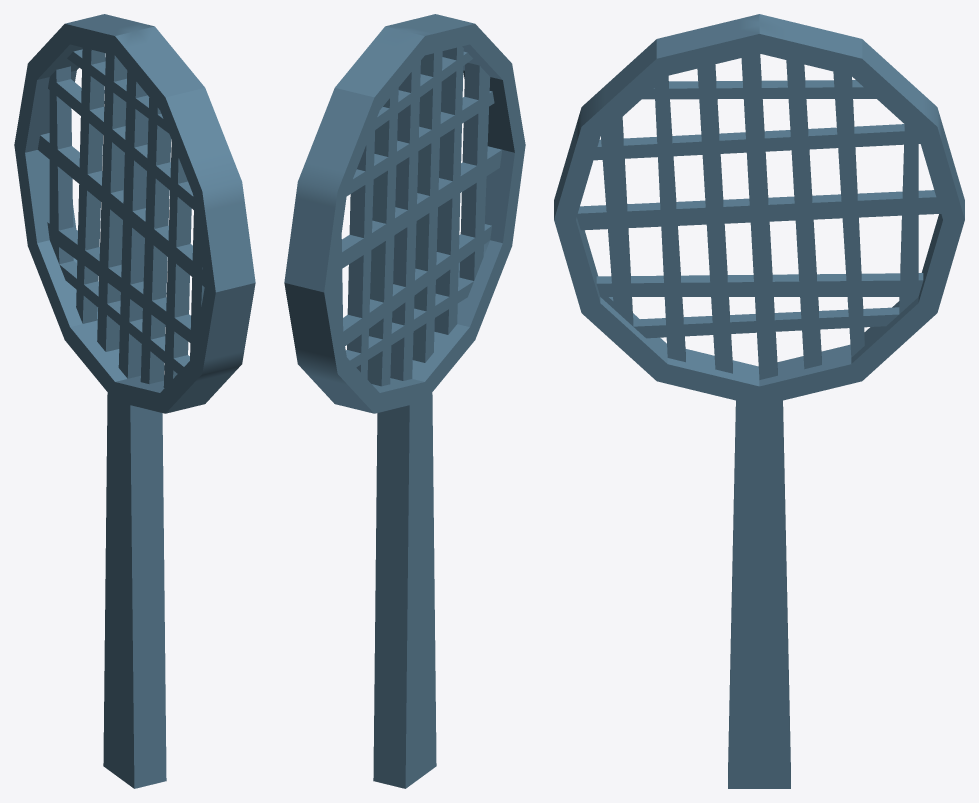
File: racket.fbx
3 renders of one model, left to right at view 1: azimuth 30°, elevation 25°; view 2: azimuth 150°, elevation 25°; view 3: azimuth 270°, elevation 25°, orthographic.
Parts seen in each view (by area): view 1: tennisRacket; view 2: tennisRacket; view 3: tennisRacket.
Part boxes in pixels (bbox=[...]): tennisRacket: bbox=[14, 14, 255, 788]; tennisRacket: bbox=[284, 14, 525, 788]; tennisRacket: bbox=[554, 14, 964, 788].
Bounding box in the file's own units: 0.2281 × 4.07 × 2.
